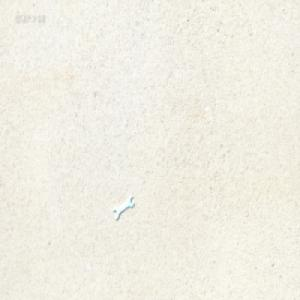Wrench: (113, 194, 134, 220)
